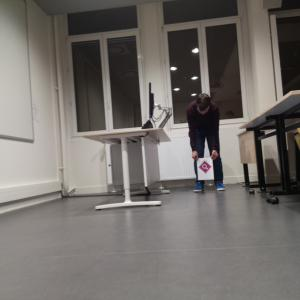search: (199, 160, 211, 173)
